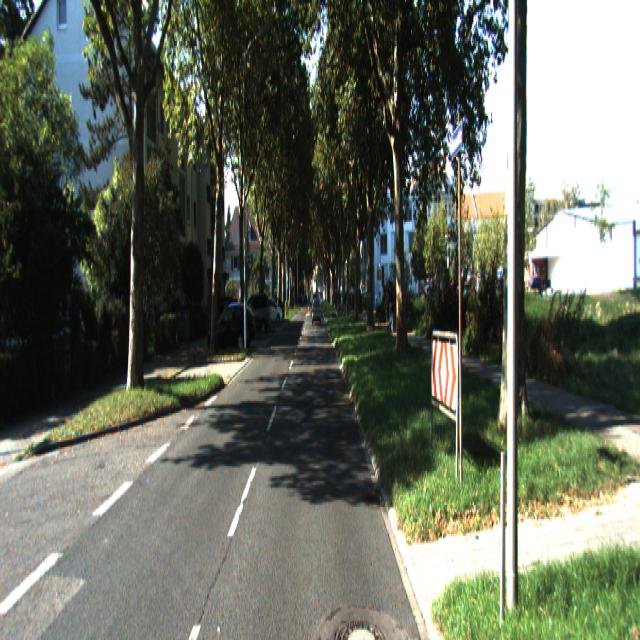Car: (210, 304, 250, 356)
